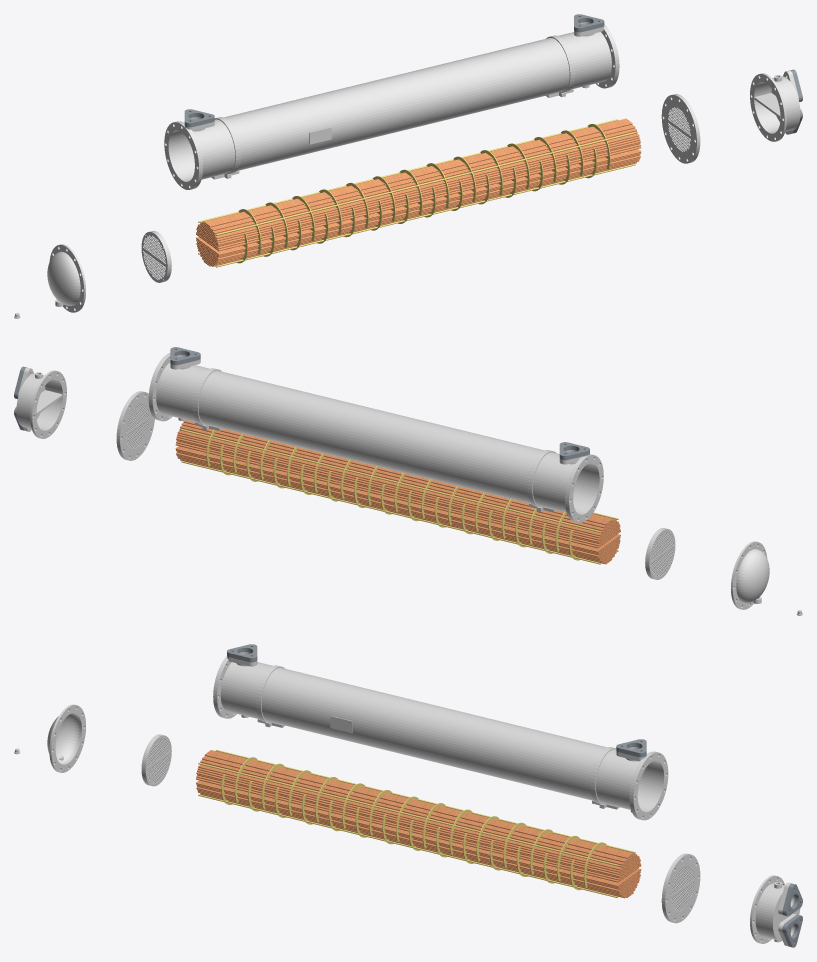
Rendered from AM18SFD0AA_Exploded_Assembly.glb.
3 renders of one model, top to bottom at view 1: azimuth 30°, elevation 25°; view 2: azimuth 150°, elevation 25°; view 3: azimuth 330°, elevation 25°, orthographic.
Visible parts, largest first — view 1: 1_Shell_Cast, 10_Copper_Tubes_354, 9_Baffles_Serre, 2_Header_2Pass_P1066, 4_Tubesheet_Stationary, 3_Header_Return_P1067, 5_Tubesheet_Floating, 6_Counter_Flanges_Detail_F; view 2: 1_Shell_Cast, 10_Copper_Tubes_354, 9_Baffles_Serre, 2_Header_2Pass_P1066, 3_Header_Return_P1067, 4_Tubesheet_Stationary, 5_Tubesheet_Floating, 6_Counter_Flanges_Detail_F; view 3: 1_Shell_Cast, 10_Copper_Tubes_354, 9_Baffles_Serre, 2_Header_2Pass_P1066, 4_Tubesheet_Stationary, 3_Header_Return_P1067, 5_Tubesheet_Floating, 6_Counter_Flanges_Detail_G, 6_Counter_Flanges_Detail_F.
Part boxes in pixels (x1,y1,x2,y2): 1_Shell_Cast: (164, 22, 619, 189); 10_Copper_Tubes_354: (196, 118, 641, 266); 9_Baffles_Serre: (198, 119, 635, 267); 2_Header_2Pass_P1066: (750, 70, 800, 141); 4_Tubesheet_Stationary: (661, 94, 700, 163); 3_Header_Return_P1067: (47, 244, 85, 312); 5_Tubesheet_Floating: (141, 231, 171, 282); 6_Counter_Flanges_Detail_F: (184, 14, 604, 127); 1_Shell_Cast: (148, 353, 603, 522); 10_Copper_Tubes_354: (175, 420, 620, 564); 9_Baffles_Serre: (181, 429, 618, 564); 2_Header_2Pass_P1066: (16, 367, 66, 438); 3_Header_Return_P1067: (731, 541, 769, 609); 4_Tubesheet_Stationary: (116, 391, 154, 460); 5_Tubesheet_Floating: (645, 528, 675, 579); 6_Counter_Flanges_Detail_F: (170, 347, 589, 460); 1_Shell_Cast: (213, 652, 668, 820); 10_Copper_Tubes_354: (196, 750, 641, 898); 9_Baffles_Serre: (198, 749, 635, 897); 2_Header_2Pass_P1066: (750, 875, 800, 946); 4_Tubesheet_Stationary: (661, 853, 700, 923); 3_Header_Return_P1067: (47, 704, 85, 772); 5_Tubesheet_Floating: (141, 734, 171, 786); 6_Counter_Flanges_Detail_G: (782, 883, 802, 947); 6_Counter_Flanges_Detail_F: (227, 644, 646, 757).
Bounding box in the file's own units: 3.69 × 0.6285 × 0.487.
